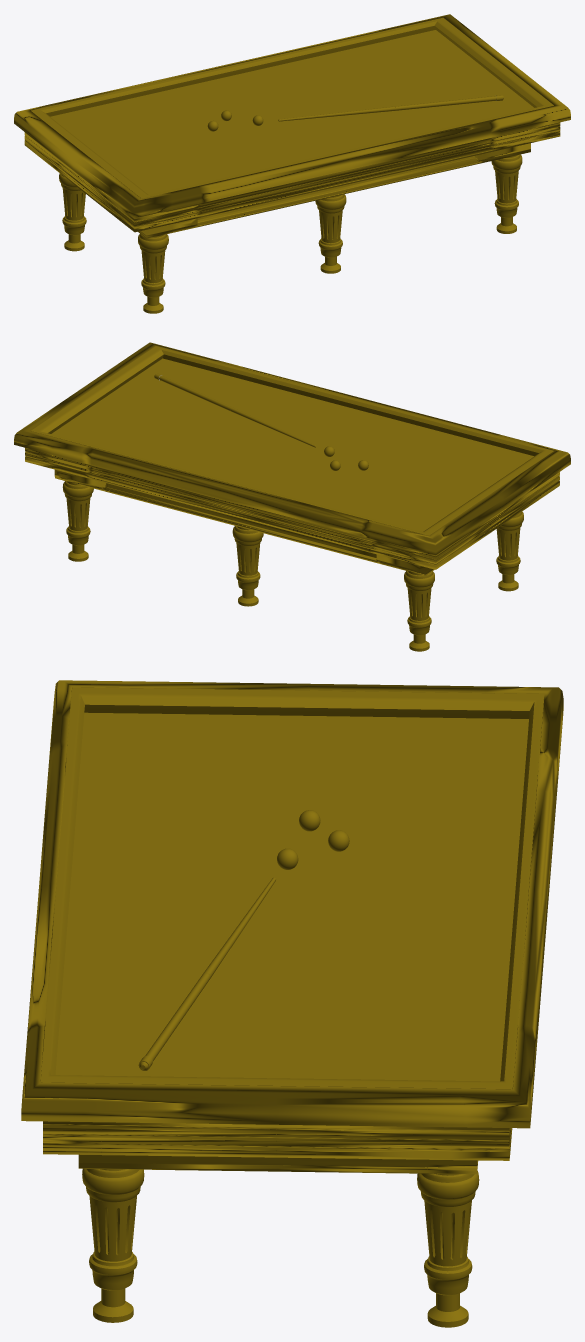
The model's file is bilardo.obj.
The picture shows the model from 3 angles, top to bottom: view 1: azimuth 30°, elevation 25°; view 2: azimuth 150°, elevation 25°; view 3: azimuth 270°, elevation 25°; orthographic projection. The views are drawn at different scales.
Visible parts, largest first — view 1: Default; view 2: Default; view 3: Default.
Boxes of the visible parts, x1,y1,x2,y2 form: Default: (14,14,570,313); Default: (14,342,570,651); Default: (21,680,563,1327).
Size of the model in its own units: 18.72 by 5.42 by 10.07.
